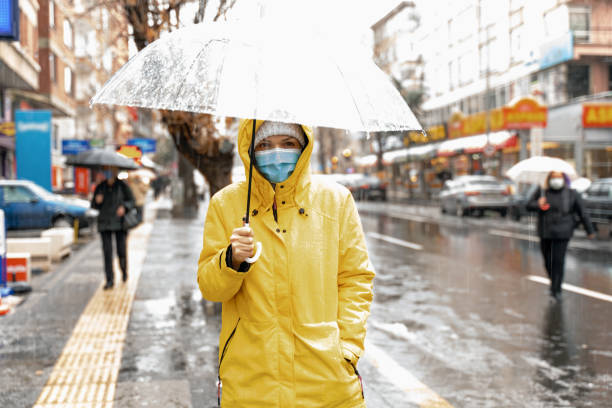with mask: (243, 117, 312, 187), (544, 163, 571, 196), (94, 163, 122, 187)
